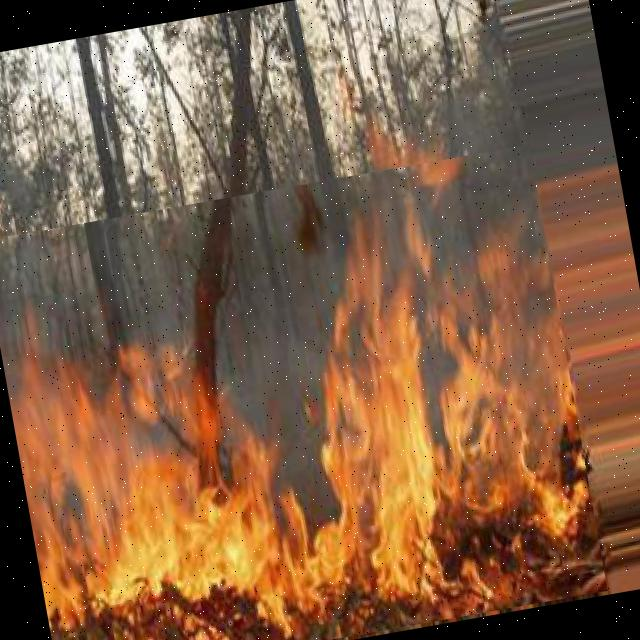fire: (0, 144, 607, 640)
